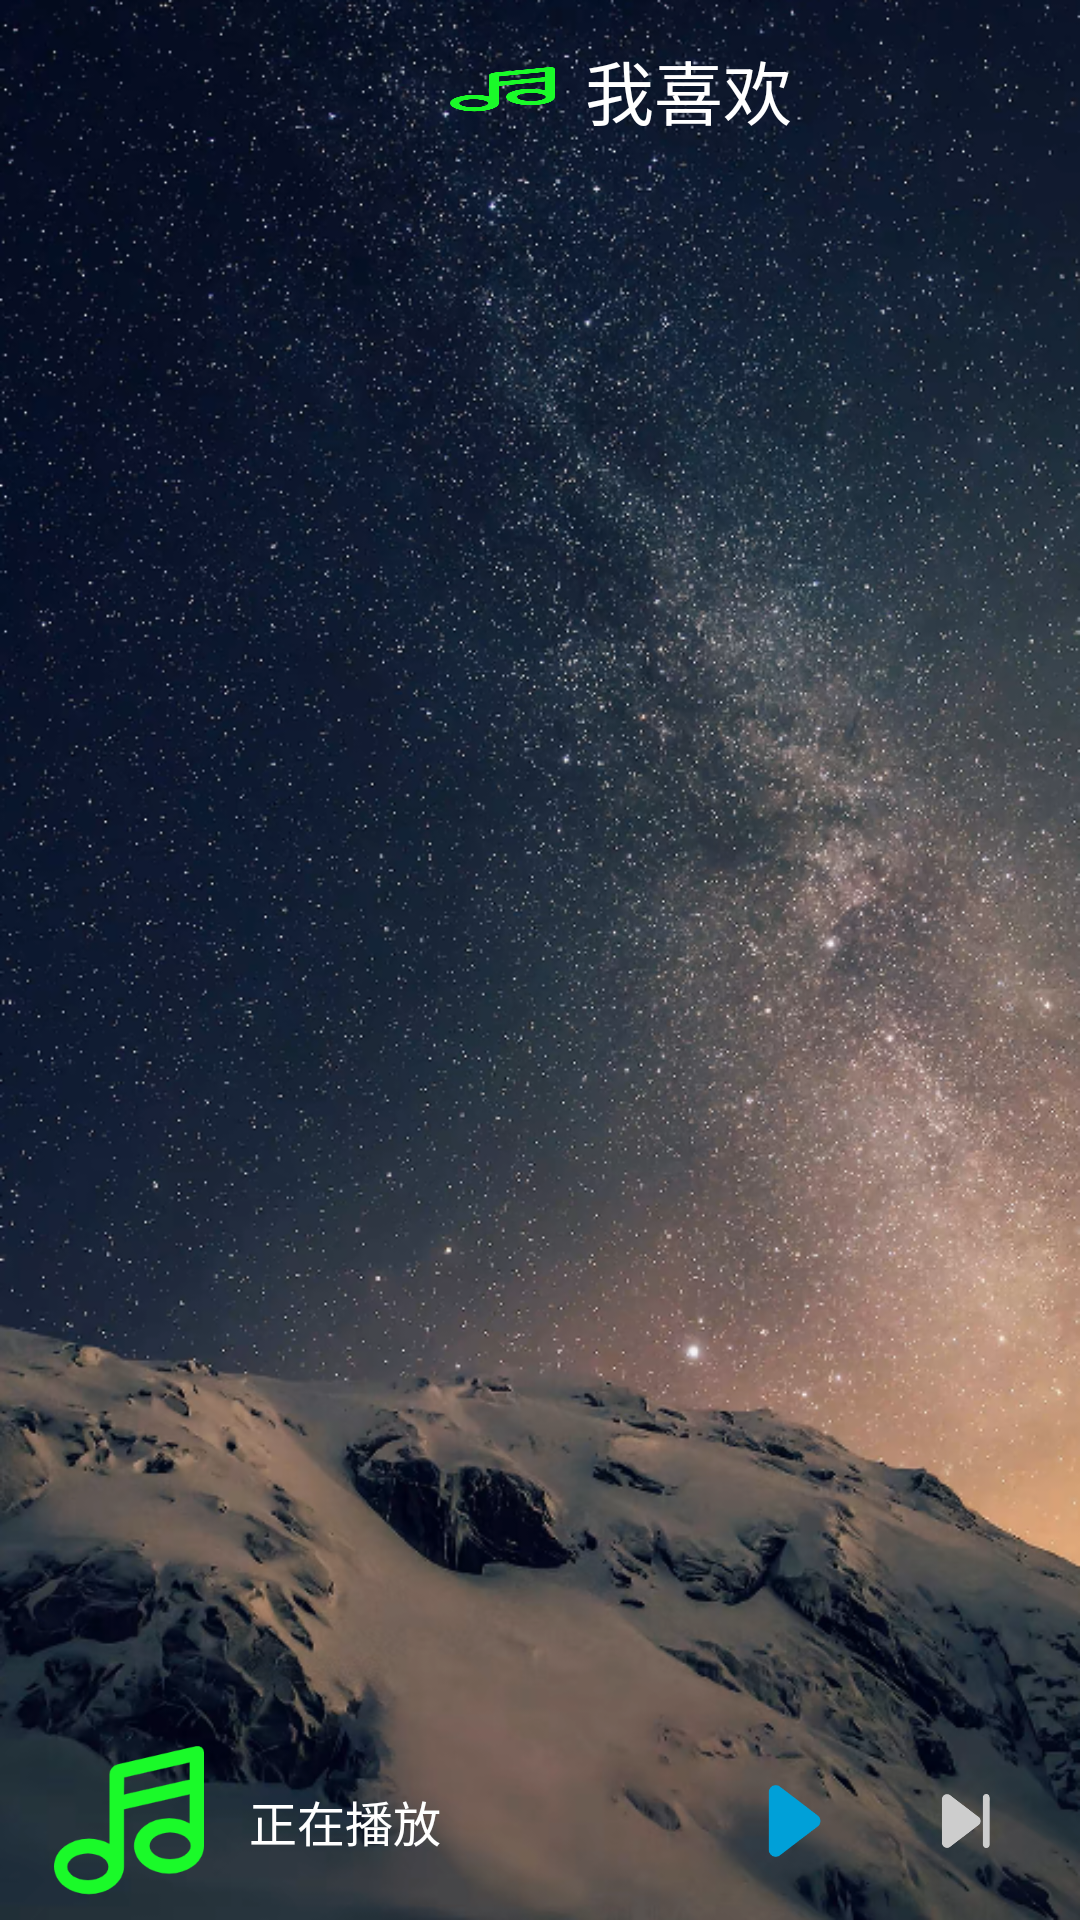

Icon click points for this 1080*1920 phone screenshot, format [x,y]:
music: [502,89], [129,1820]
next: [966,1821]
play: [792,1821]
